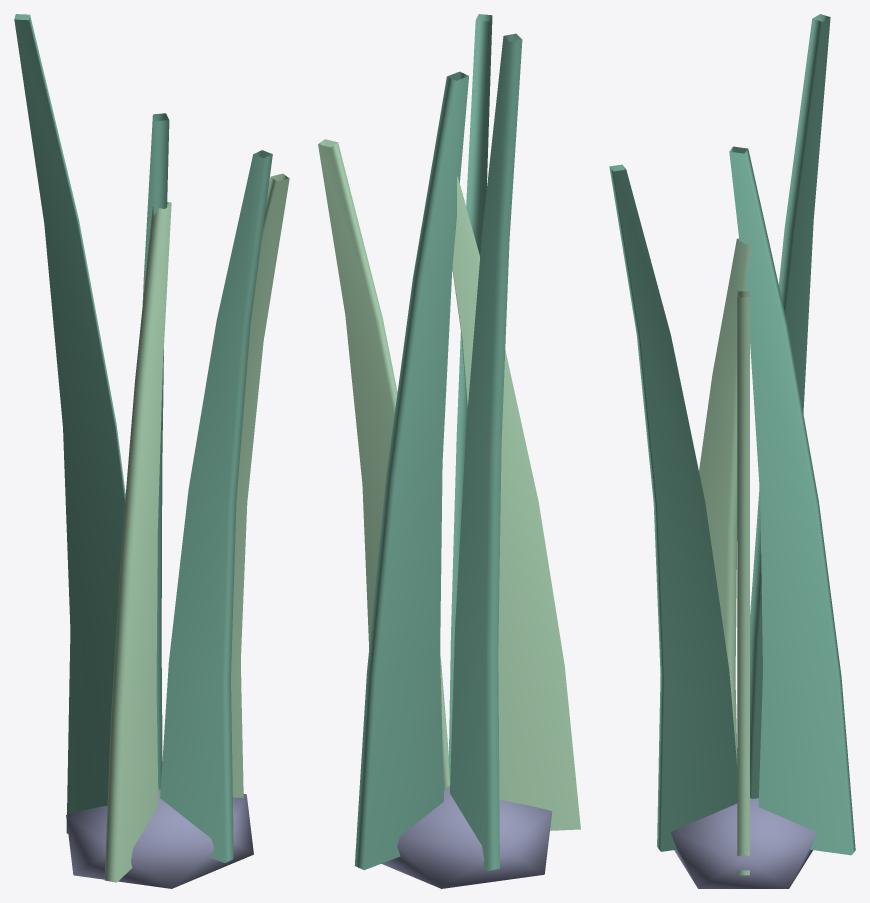
The model's file is kelp_0.glb.
3 views of the same model, side by side, from view 1: azimuth 30°, elevation 25°; view 2: azimuth 150°, elevation 25°; view 3: azimuth 270°, elevation 25° (orthographic). The views are drawn at different scales.
Visible parts, largest first — view 1: KelpPass35_0Mesh; view 2: KelpPass35_0Mesh; view 3: KelpPass35_0Mesh.
Boxes of the visible parts, bbox=[...] form: KelpPass35_0Mesh: bbox=[14, 14, 289, 888]; KelpPass35_0Mesh: bbox=[318, 14, 580, 888]; KelpPass35_0Mesh: bbox=[609, 14, 855, 888].
Size of the model in its own units: 1 by 3.54 by 0.9686.
